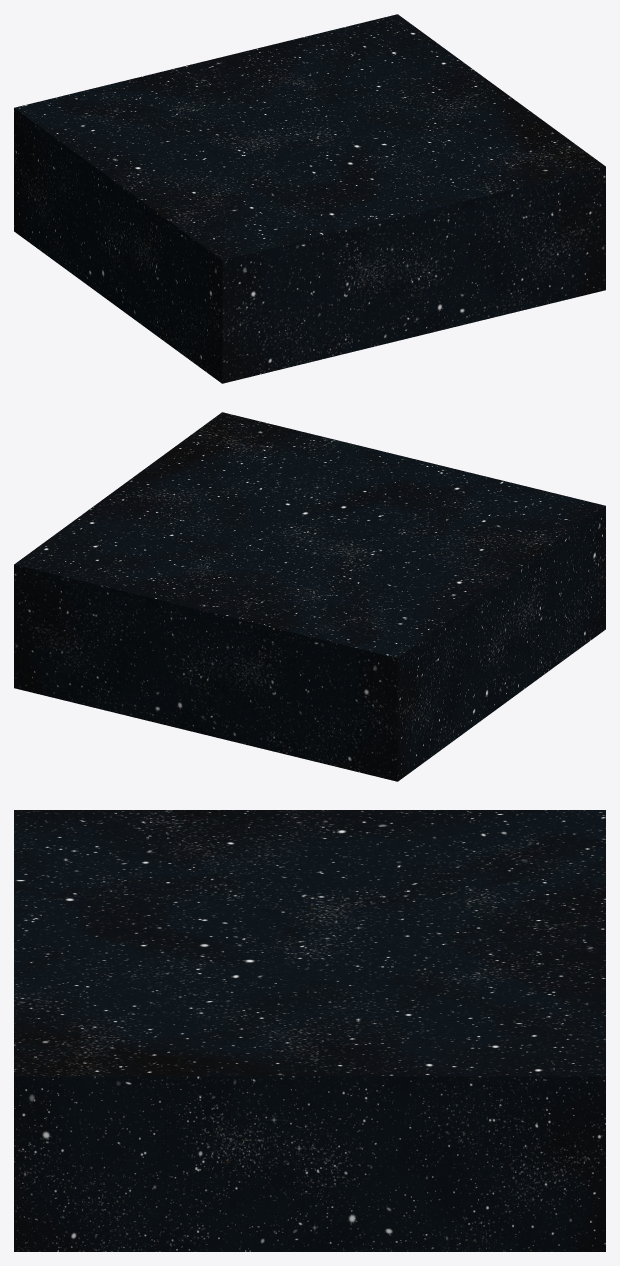
Rendered from space.glb.
3 renders of one model, top to bottom at view 1: azimuth 30°, elevation 25°; view 2: azimuth 150°, elevation 25°; view 3: azimuth 270°, elevation 25°, orthographic. The views are drawn at different scales.
Visible parts, largest first — view 1: Cube; view 2: Cube; view 3: Cube.
Part boxes in pixels (x1,y1,x2,y2): Cube: [14, 14, 605, 383]; Cube: [14, 412, 605, 781]; Cube: [14, 810, 605, 1251].
Size of what is drawn, in the model's own units: 19.11 by 5.88 by 17.96.
1 material, 1 textured.
